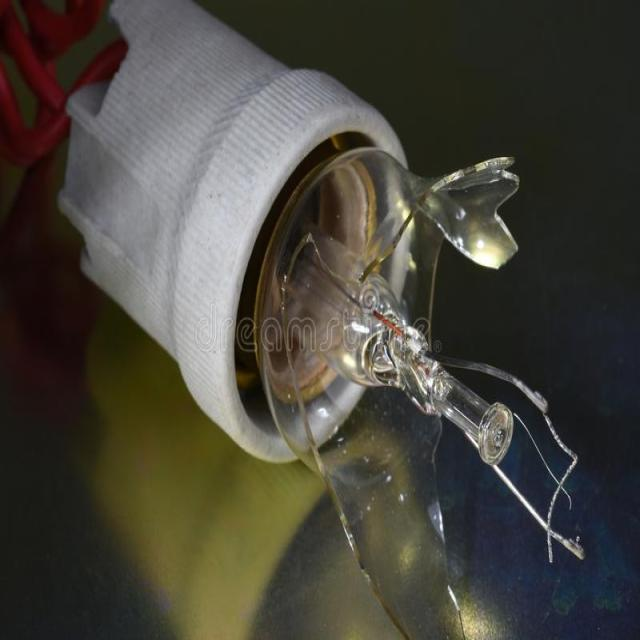Hazard: (134, 0, 583, 574)
